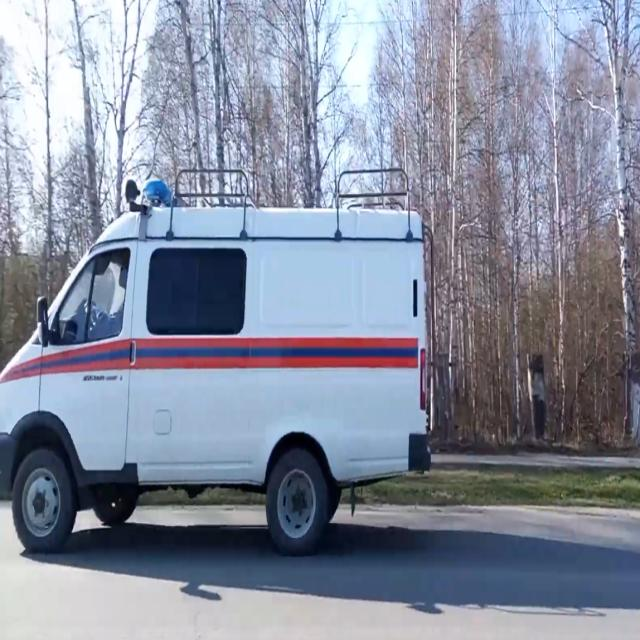ambulance: (1, 162, 432, 559)
